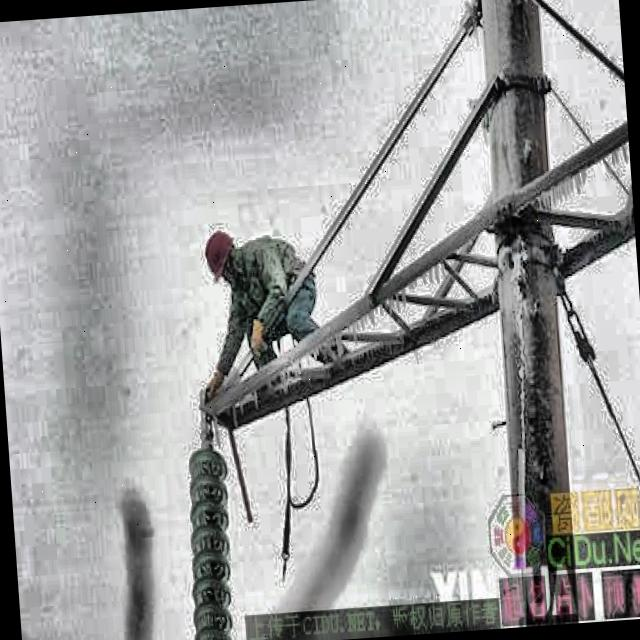helmet: (198, 226, 247, 288)
